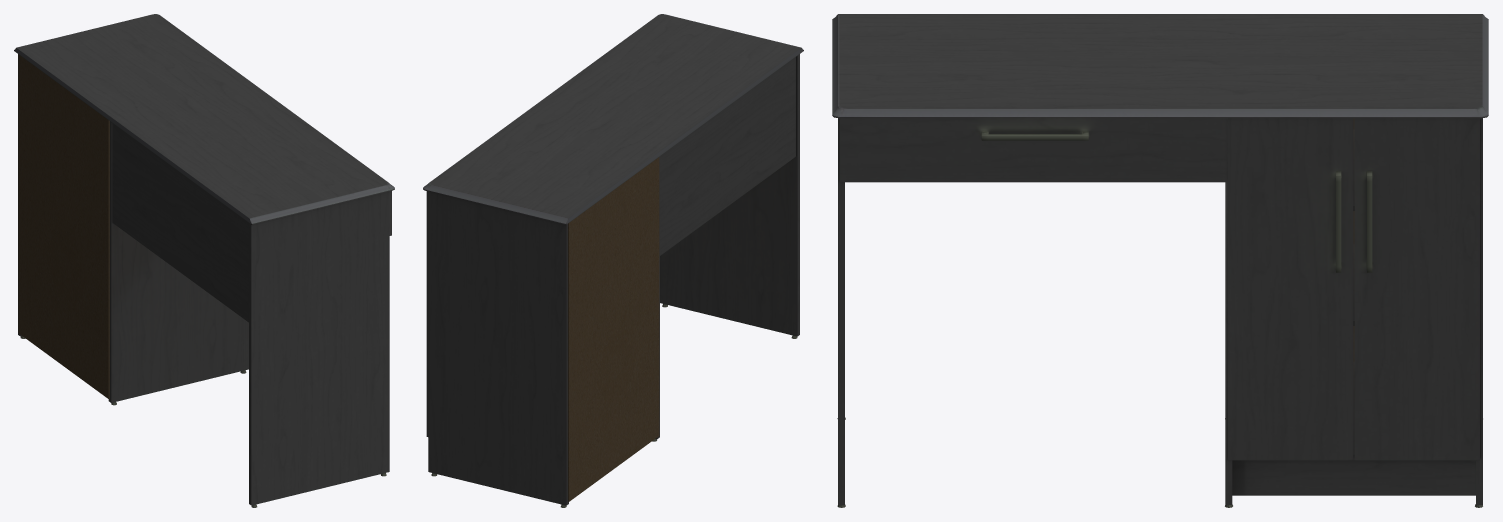
The model's file is objh.glb.
3 views of the same model, side by side, from view 1: azimuth 30°, elevation 25°; view 2: azimuth 150°, elevation 25°; view 3: azimuth 270°, elevation 25° (orthographic). The views are drawn at different scales.
Visible parts, largest first — view 1: computer desk; view 2: computer desk; view 3: computer desk.
Part boxes in pixels (bbox=[...]): computer desk: bbox=[14, 14, 394, 507]; computer desk: bbox=[423, 14, 803, 507]; computer desk: bbox=[832, 14, 1488, 507].
Size of the model in its own units: 0.4426 by 0.8236 by 1.22.
Materials: 1 (1 with a texture image).
